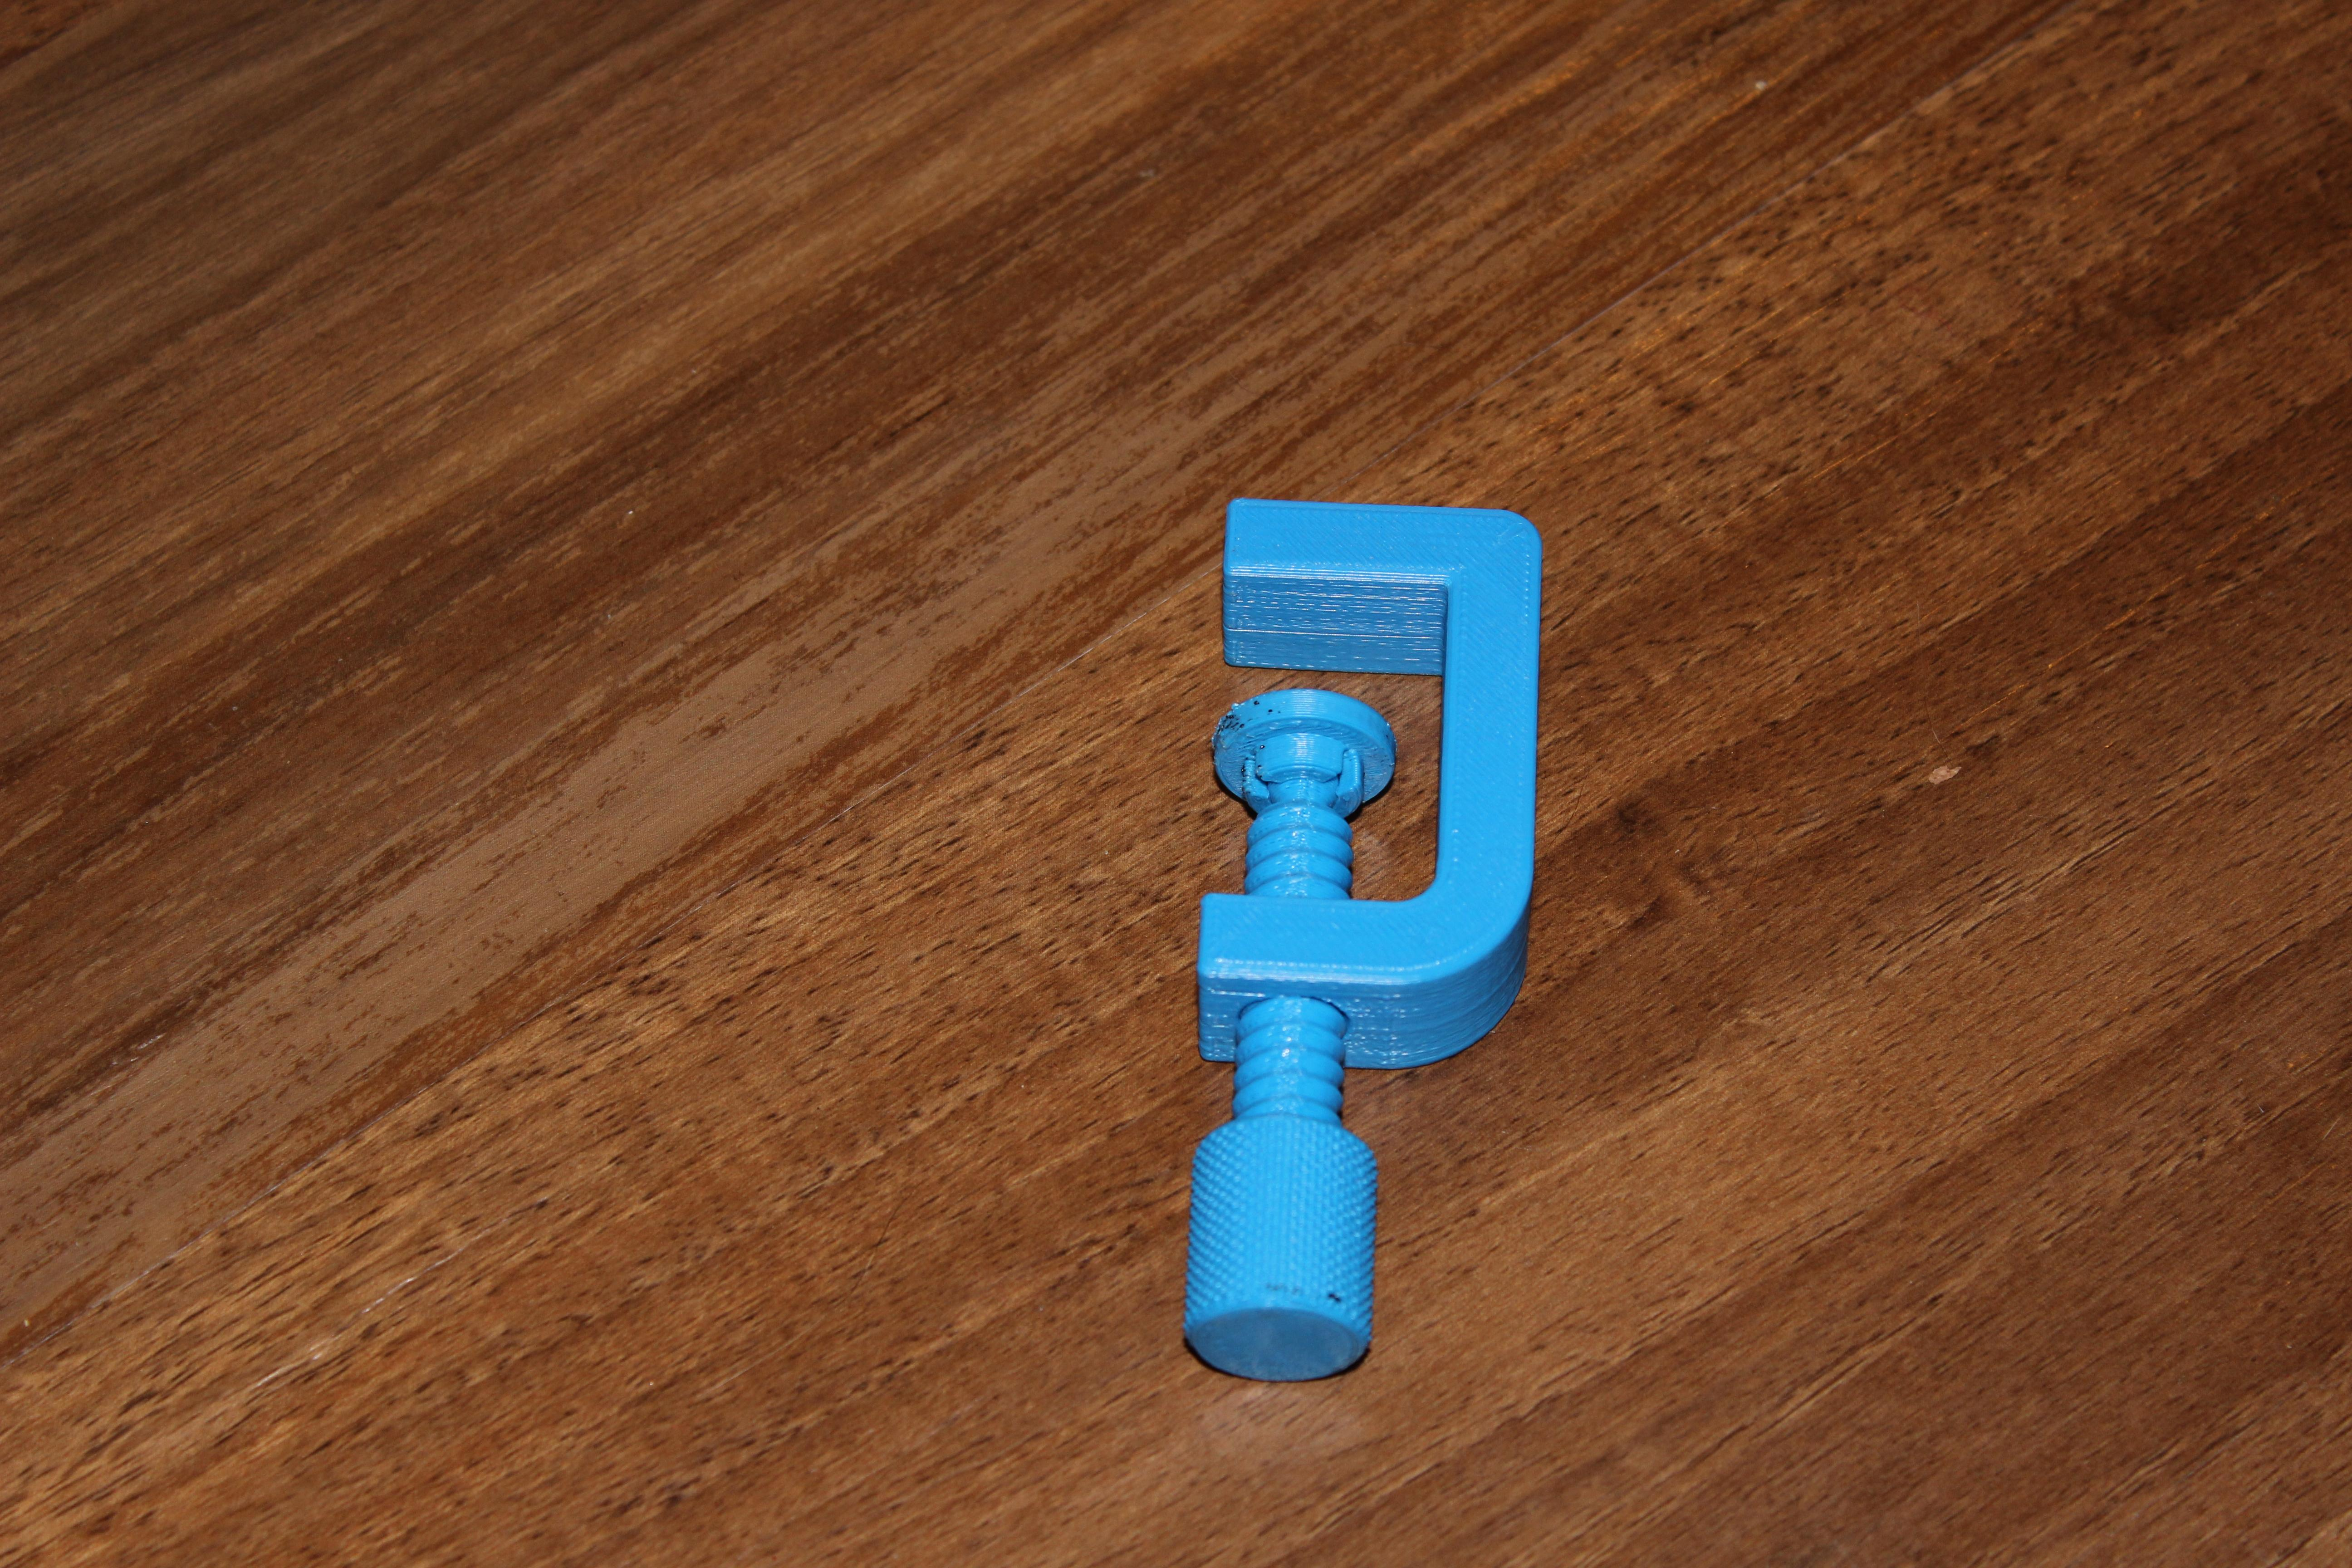gClamp: (1141, 467, 1631, 1411)
